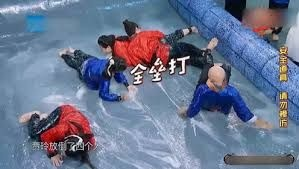falling: (110, 13, 214, 68)
